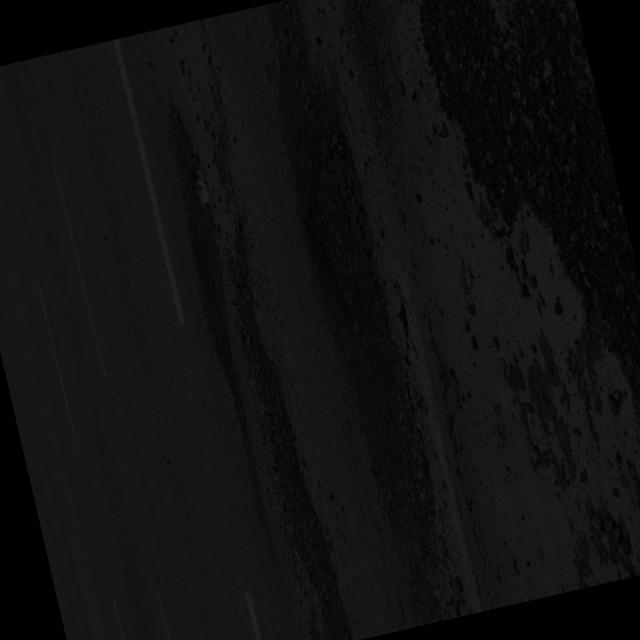pothole: (237, 53, 468, 568)
